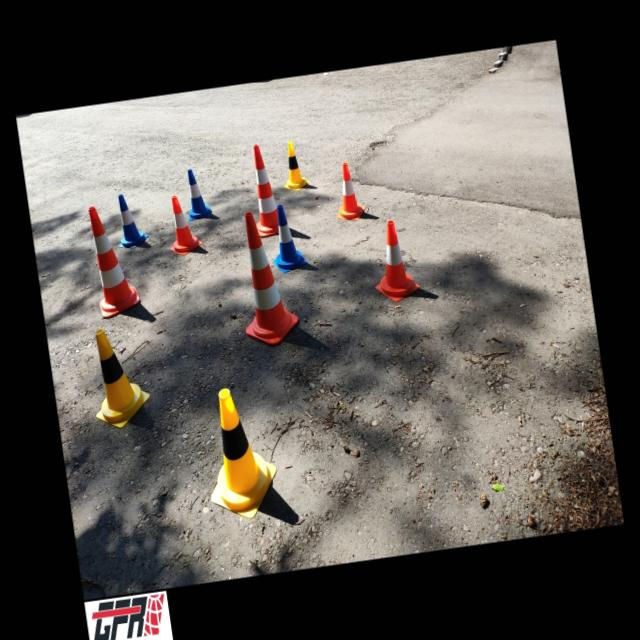blue_cone: (266, 203, 308, 274), (112, 192, 150, 250), (183, 168, 211, 220)
large_orange_cone: (230, 207, 300, 348), (86, 202, 142, 318), (246, 143, 280, 237)
orange_cone: (367, 217, 421, 304), (164, 194, 202, 256), (329, 161, 366, 223)
yellow_cone: (198, 384, 282, 524), (85, 324, 154, 432), (278, 140, 311, 192)
